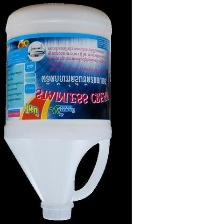cleaning_solution: (1, 0, 114, 221)
